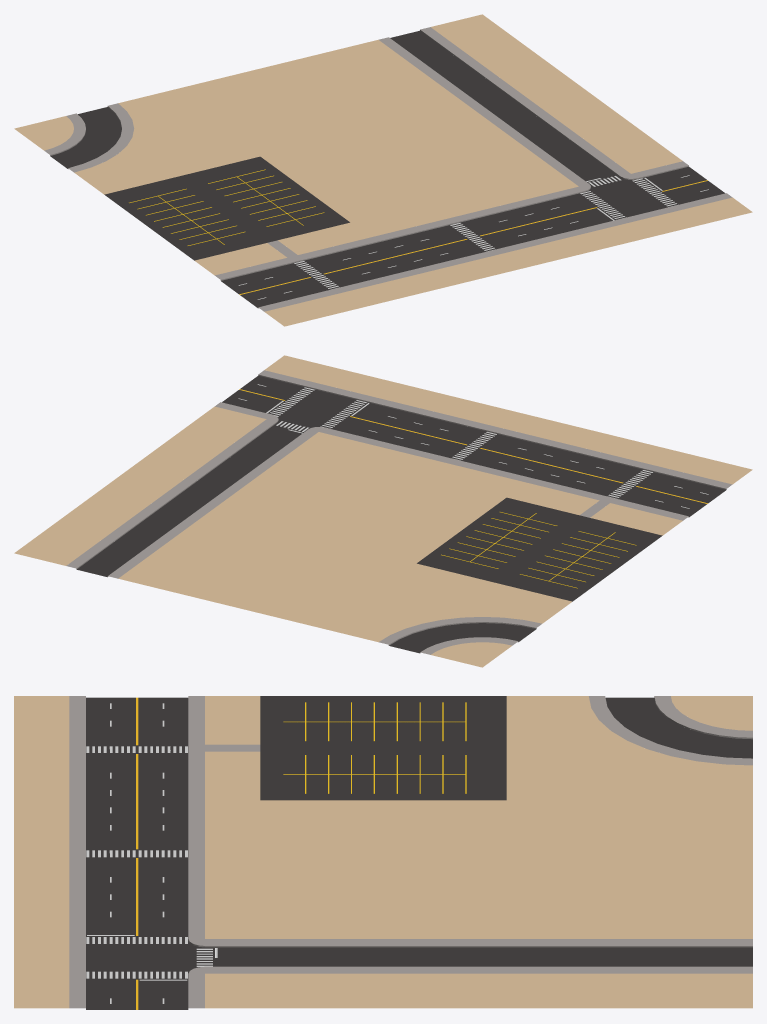
File: road-zone-shops.glb
3 views of the same model, one above another, from view 1: azimuth 30°, elevation 25°; view 2: azimuth 150°, elevation 25°; view 3: azimuth 270°, elevation 25° (orthographic). The views are drawn at different scales.
Visible parts, largest first — view 1: tile-road-straight-nb.010, tile-plain-nb.066, tile-road-straight-nb.009, tile-plain-nb.069, tile-mainroad-straight-crosswalk-nb.010, tile-plain-nb, tile-road-curve-nb.003, tile-road-mainroad-intersection-t-nb.002, tile-mainroad-straight-crosswalk-nb.001; view 2: tile-road-curve-nb.003, tile-road-mainroad-intersection-t-nb.002, tile-plain-nb.066, tile-road-straight-nb.009, tile-road-straight-nb.010, tile-plain-nb.069, tile-mainroad-straight-crosswalk-nb.010, tile-plain-nb, tile-mainroad-straight-crosswalk-nb.001; view 3: tile-plain-nb.069, tile-mainroad-straight-crosswalk-nb.010, tile-road-mainroad-intersection-t-nb.002, tile-road-straight-nb.009, tile-plain-nb.066, tile-road-straight-nb.010, tile-road-curve-nb.003, tile-mainroad-straight-crosswalk-nb.001, tile-plain-nb.
Part boxes in pixels (x1,y1,x2,y2): tile-road-straight-nb.010: (326,14,571,118); tile-plain-nb.066: (170,52,415,156); tile-road-straight-nb.009: (417,80,662,184); tile-plain-nb.069: (260,118,506,222); tile-mainroad-straight-crosswalk-nb.010: (351,184,596,288); tile-plain-nb: (104,156,349,260); tile-road-curve-nb.003: (14,90,259,194); tile-road-mainroad-intersection-t-nb.002: (507,146,752,250); tile-mainroad-straight-crosswalk-nb.001: (195,222,440,326); tile-road-curve-nb.003: (326,563,571,667); tile-road-mainroad-intersection-t-nb.002: (195,355,440,459); tile-plain-nb.066: (170,525,415,629); tile-road-straight-nb.009: (104,421,349,525); tile-road-straight-nb.010: (14,487,259,591); tile-plain-nb.069: (260,459,506,563); tile-mainroad-straight-crosswalk-nb.010: (351,393,596,497); tile-plain-nb: (417,497,662,601); tile-mainroad-straight-crosswalk-nb.001: (507,431,752,535); tile-plain-nb.069: (260,800,506,904); tile-mainroad-straight-crosswalk-nb.010: (14,800,260,905); tile-road-mainroad-intersection-t-nb.002: (14,904,260,1009); tile-road-straight-nb.009: (260,904,506,1008); tile-plain-nb.066: (506,800,752,904); tile-road-straight-nb.010: (506,904,752,1008); tile-road-curve-nb.003: (506,696,752,800); tile-mainroad-straight-crosswalk-nb.001: (14,696,260,801); tile-plain-nb: (260,696,506,800).
Size of the model in its own units: 90 by 0.2279 by 90.
9 materials, 1 textured.
